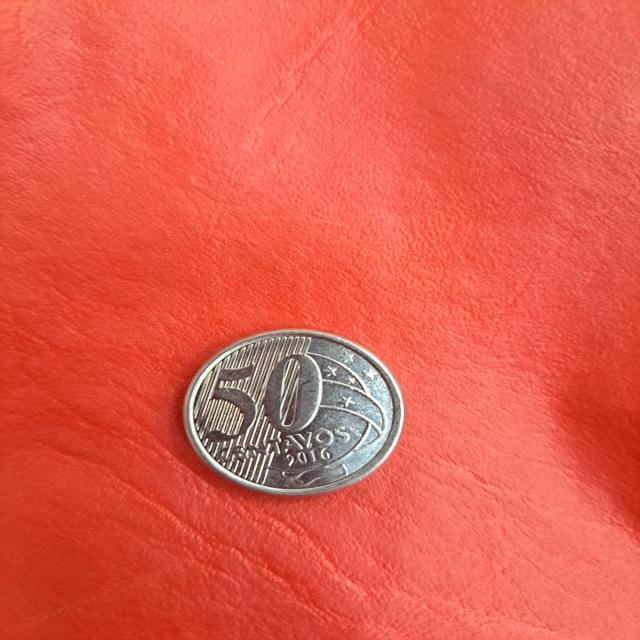50 cents: (171, 324, 416, 504)
